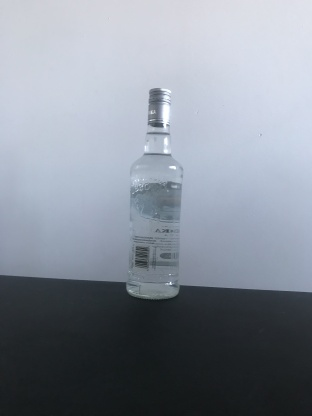nakretka: (146, 85, 172, 127)
